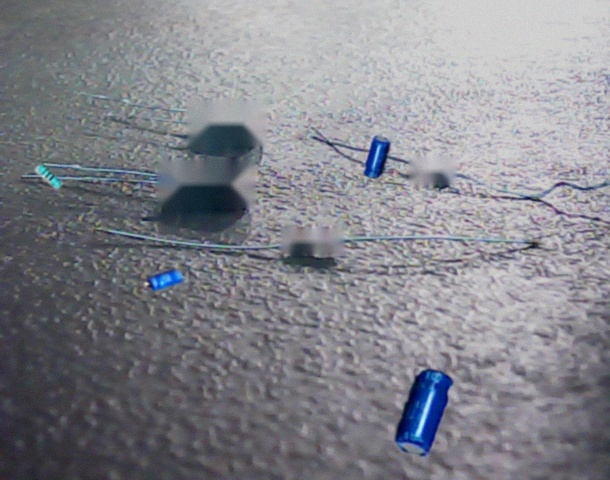capacitor: (395, 368, 454, 457), (363, 136, 390, 179), (144, 268, 184, 291)
resistor: (34, 164, 63, 190)
